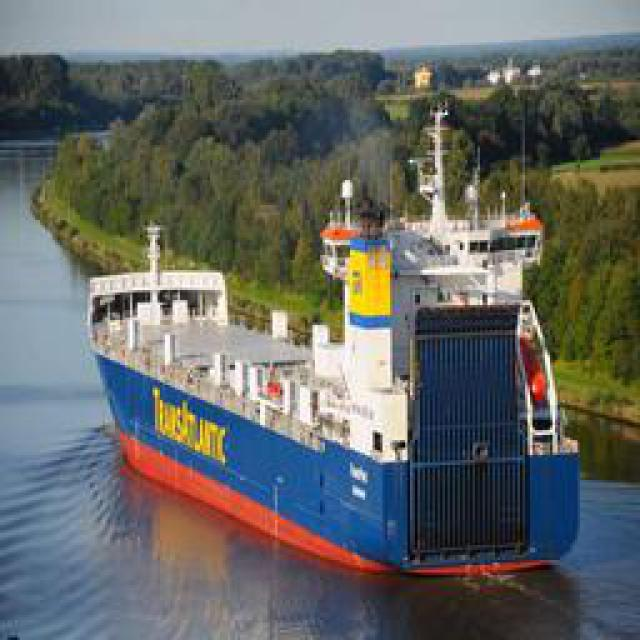Ship: (82, 164, 585, 587)
